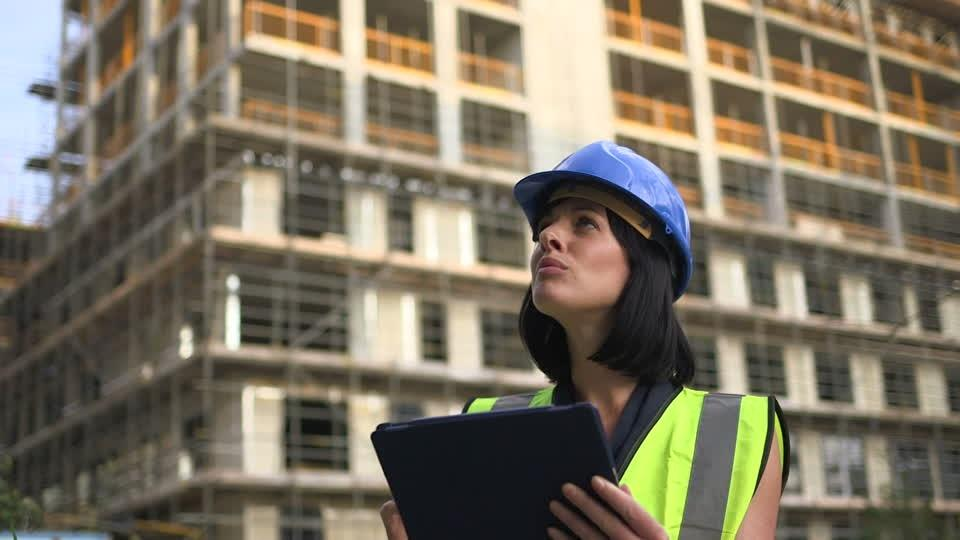helmet: (504, 136, 697, 373)
reflective: (450, 382, 795, 540)
